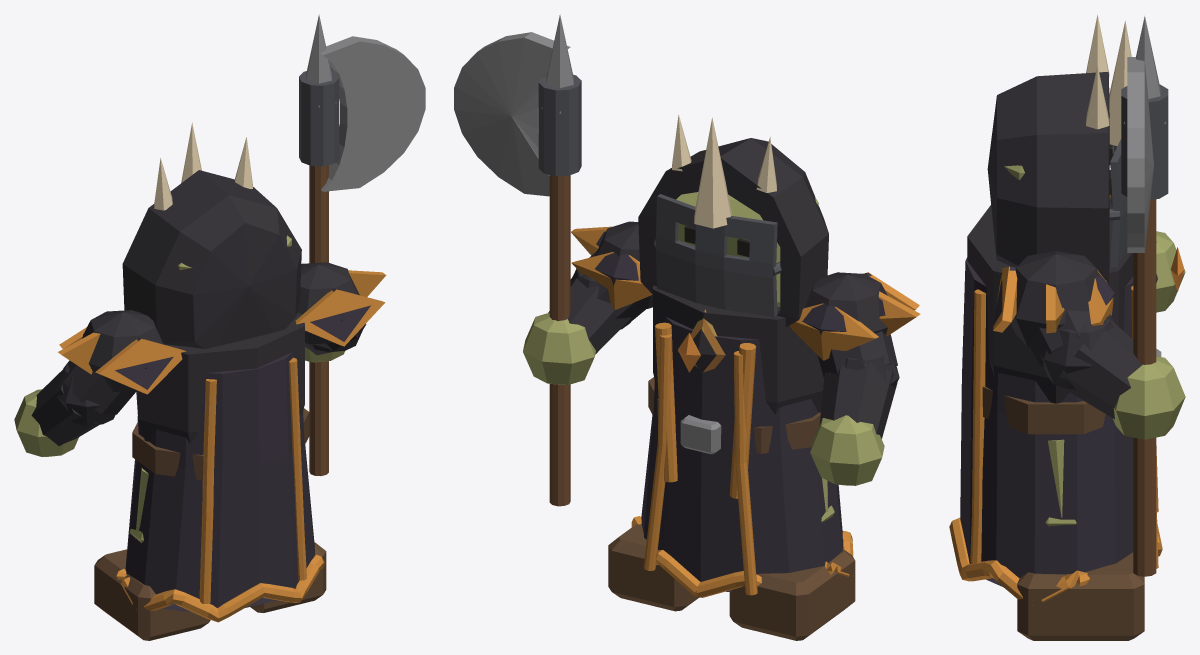
File: host_44.glb
3 views of the same model, side by side, from view 1: azimuth 30°, elevation 25°; view 2: azimuth 150°, elevation 25°; view 3: azimuth 270°, elevation 25° (orthographic). The views are drawn at different scales.
Visible parts, largest first — view 1: V6 ash executioner real ankle length folded dark purple robe, V6 source fitted domed cloth hood, V6 ash executioner actual broad curved faceted poleaxe blade, Tailored continuous bodice, V6 ash executioner actual broad orange gold edged shoulder m (×4), V6 ash executioner actual long contacting orange rear robe f (×2), Grounded boot L, V6 ash executioner source long poleaxe whole continuous held, V6 ash executioner actual continuous poleaxe metal socket, V6 ash executioner actual continuous ragged orange gold lowe, Connected shoulder L, Forearm L (+10 smaller); view 2: V6 ash executioner real ankle length folded dark purple robe, V6 source fitted domed cloth hood, V6 ash executioner actual broad curved faceted poleaxe blade, V6 source continuous fitted mask with real eye openings, Tailored continuous bodice, Grounded boot L, V6 ash executioner source long poleaxe whole continuous held, V6 ash executioner actual broad orange gold edged shoulder m (×3), Grasping hand L, V6 ash executioner actual continuous poleaxe metal socket, Grounded boot R, Grasping hand R (+18 smaller); view 3: V6 ash executioner real ankle length folded dark purple robe, V6 source fitted domed cloth hood, Grounded boot R, V6 ash executioner source long poleaxe whole continuous held, Tailored continuous bodice, Connected shoulder R, V6 ash executioner actual broad curved faceted poleaxe blade, Grasping hand R, Forearm R, Continuous leather waist belt, V6 ash executioner actual long contacting orange rear robe f, V6 ash executioner actual continuous poleaxe metal socket (+12 smaller).
Part boxes in pixels (x1,y1,x2,y2): V6 ash executioner real ankle length folded dark purple robe: (125,352,315,611); V6 source fitted domed cloth hood: (122,170,301,348); V6 ash executioner actual broad curved faceted poleaxe blade: (320,36,425,191); Tailored continuous bodice: (136,312,304,443); V6 ash executioner actual broad orange gold edged shoulder m (×4): (58,270,386,394); V6 ash executioner actual long contacting orange rear robe f (×2): (199,357,306,603); Grounded boot L: (94,549,210,640); V6 ash executioner source long poleaxe whole continuous held: (309,165,328,475); V6 ash executioner actual continuous poleaxe metal socket: (299,71,339,166); V6 ash executioner actual continuous ragged orange gold lowe: (116,554,324,622); Connected shoulder L: (82,310,163,391); Forearm L: (31,368,99,445); V6 ash executioner real ankle length folded dark purple robe: (641,317,843,591); V6 source fitted domed cloth hood: (638,138,828,326); V6 ash executioner actual broad curved faceted poleaxe blade: (454,32,570,196); V6 source continuous fitted mask with real eye openings: (656,194,777,316); Tailored continuous bodice: (653,285,823,414); Grounded boot L: (729,549,855,640); V6 ash executioner source long poleaxe whole continuous held: (549,175,570,506); V6 ash executioner actual broad orange gold edged shoulder m (×3): (571,251,920,360); Grasping hand L: (810,415,884,485); V6 ash executioner actual continuous poleaxe metal socket: (538,74,581,176); Grounded boot R: (608,524,699,611); Grasping hand R: (523,312,595,384); V6 ash executioner real ankle length folded dark purple robe: (960,257,1133,586); V6 source fitted domed cloth hood: (987,72,1109,284); Grounded boot R: (1017,552,1144,640); V6 ash executioner source long poleaxe whole continuous held: (1133,199,1156,576); Tailored continuous bodice: (967,200,1133,403); Connected shoulder R: (999,251,1099,346); V6 ash executioner actual broad curved faceted poleaxe blade: (1127,57,1153,252); Grasping hand R: (1113,356,1185,439); Forearm R: (1058,319,1142,419); Continuous leather waist belt: (982,386,1105,434); V6 ash executioner actual long contacting orange rear robe f: (970,289,986,564); V6 ash executioner actual continuous poleaxe metal socket: (1121,84,1168,199).
Bounding box in the file's own units: 1.46 × 1.87 × 0.6122.
